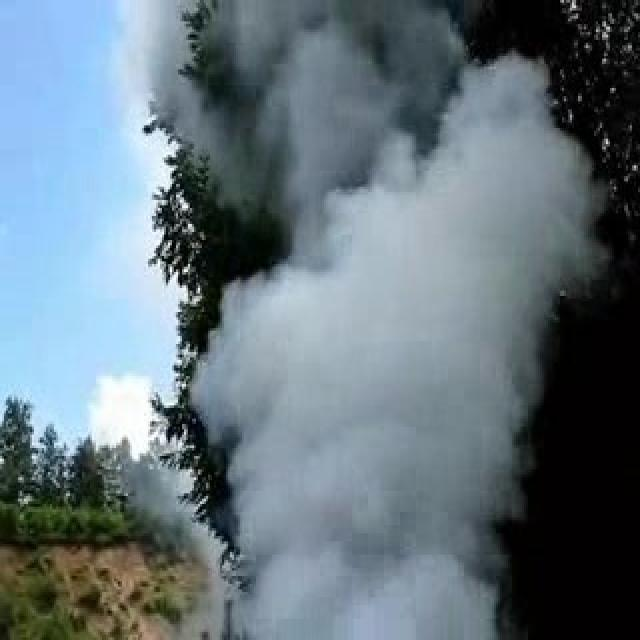Smoke: (84, 0, 610, 640)
